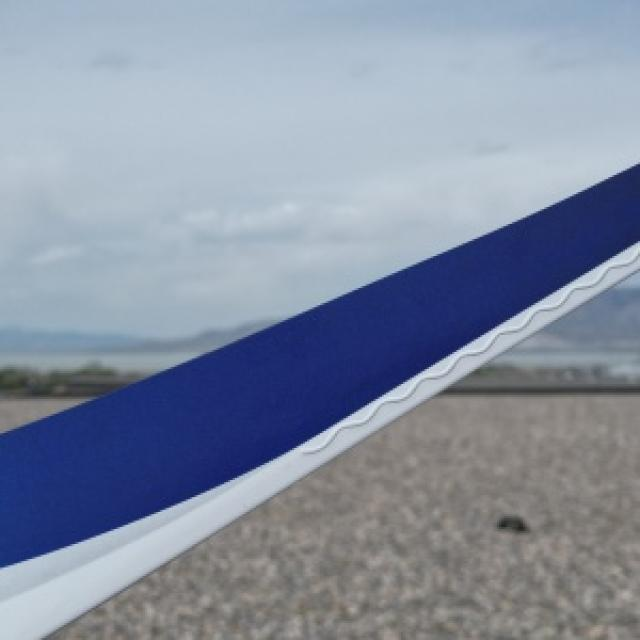healthy: (0, 164, 638, 638), (51, 410, 638, 638)
